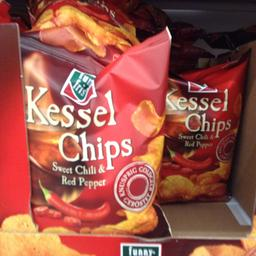chips: (17, 33, 168, 233), (164, 72, 246, 205)
